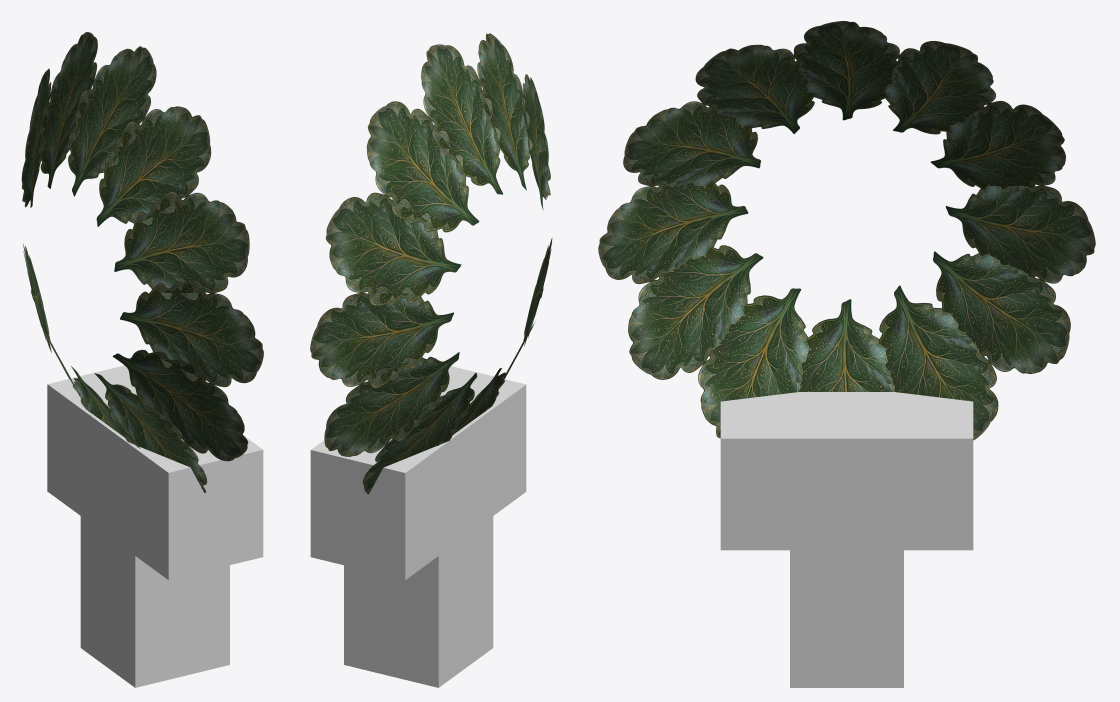
Rendered from fiore.glb.
The picture shows the model from 3 angles, left to right: view 1: azimuth 30°, elevation 25°; view 2: azimuth 150°, elevation 25°; view 3: azimuth 270°, elevation 25°; orthographic projection. The views are drawn at different scales.
Visible parts, largest first — view 1: Cube.001, Cube, foglia.010, foglia.009, foglia.011, foglia.008, foglia.012, foglia.013, foglia.007, foglia.002, foglia.006, foglia.004; view 2: Cube.001, Cube, foglia.002, foglia.003, foglia.013, foglia.004, foglia.012, foglia.011, foglia.005, foglia.010, foglia.006, foglia.008; view 3: Cube.001, Cube, foglia.004, foglia.008, foglia.003, foglia.009, foglia.005, foglia.007, foglia.002, foglia.010, foglia.013, foglia.011 (+2 smaller).
Part boxes in pixels (x1,y1,x2,y2): Cube.001: [47, 365, 263, 580]; Cube: [80, 516, 229, 687]; foglia.010: [114, 191, 249, 301]; foglia.009: [120, 280, 263, 386]; foglia.011: [96, 106, 211, 226]; foglia.008: [112, 350, 248, 461]; foglia.012: [68, 46, 156, 196]; foglia.013: [38, 32, 97, 188]; foglia.007: [94, 373, 207, 492]; foglia.002: [21, 68, 51, 207]; foglia.006: [71, 366, 140, 448]; foglia.004: [23, 244, 51, 352]; Cube.001: [310, 366, 526, 580]; Cube: [344, 516, 493, 687]; foglia.002: [325, 192, 460, 306]; foglia.003: [310, 285, 453, 388]; foglia.013: [367, 101, 479, 232]; foglia.004: [324, 352, 459, 456]; foglia.012: [421, 44, 502, 194]; foglia.011: [477, 33, 532, 189]; foglia.005: [363, 372, 477, 494]; foglia.010: [522, 74, 550, 210]; foglia.006: [437, 368, 505, 445]; foglia.008: [523, 238, 552, 346]; Cube.001: [720, 392, 973, 550]; Cube: [790, 550, 903, 687]; foglia.004: [933, 251, 1070, 373]; foglia.008: [628, 245, 763, 379]; foglia.003: [945, 185, 1095, 283]; foglia.009: [598, 182, 748, 283]; foglia.005: [879, 285, 998, 440]; foglia.007: [698, 288, 809, 438]; foglia.002: [930, 101, 1065, 189]; foglia.010: [623, 101, 760, 186]; foglia.013: [884, 41, 995, 134]; foglia.011: [695, 44, 814, 133].
Size of what is drawn, in the model's own units: 1.68 by 7.59 by 5.45.
3 materials, 2 textured.
